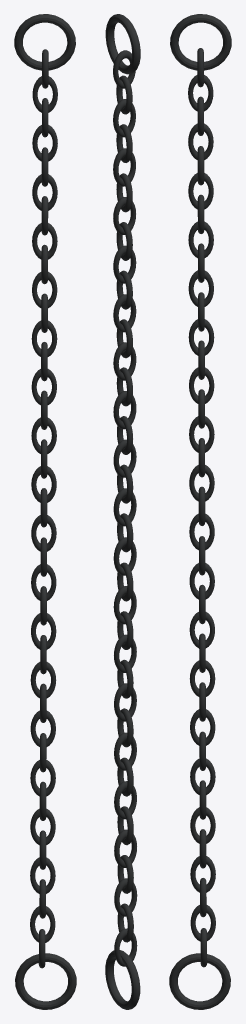
File: chain.glb
The picture shows the model from 3 angles, left to right: view 1: azimuth 90°, elevation 25°; view 2: azimuth 210°, elevation 25°; view 3: azimuth 270°, elevation 25°; orthographic projection.
Visible parts, largest first — view 1: Torus004; view 2: Torus004; view 3: Torus004.
Part boxes in pixels (x1,y1,x2,y2): Torus004: (14, 14, 76, 1009); Torus004: (105, 14, 140, 1009); Torus004: (169, 14, 231, 1009).
Size of the model in its own units: 0.0291 by 1.23 by 0.0704.
1 material, 1 textured.
